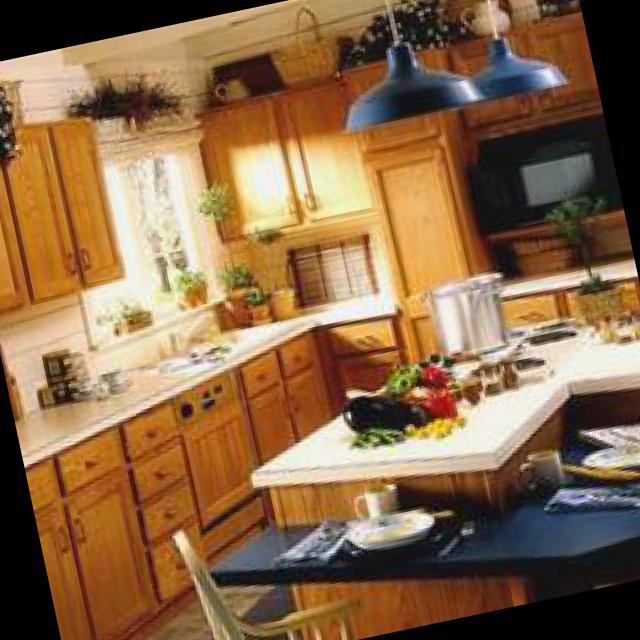2001: (86, 129, 229, 339)
basket crop: (270, 6, 343, 84), (540, 0, 581, 12)
cabinet door: (202, 77, 377, 238), (0, 118, 128, 297), (448, 9, 602, 135)
cabinets: (34, 329, 336, 640), (319, 107, 476, 403)
ceiling lamps: (351, 0, 486, 127), (472, 0, 570, 93)
chair -occluded-: (176, 529, 365, 640)
coffee maker: (40, 345, 98, 402)
counter bottom: (255, 311, 640, 485), (18, 292, 397, 461), (211, 497, 640, 575), (505, 244, 637, 291)
cup and saucer: (108, 364, 135, 392)
fork: (438, 515, 475, 556)
microwave oven: (482, 114, 621, 218)
mug: (518, 446, 566, 486), (357, 480, 400, 514)
napkin ring: (278, 517, 354, 556), (549, 477, 640, 507)
pitcher: (473, 0, 513, 29), (217, 76, 252, 95)
plant -x: (548, 190, 626, 317), (201, 175, 261, 320), (347, 0, 473, 64), (70, 71, 193, 124), (249, 223, 302, 316), (172, 263, 207, 308), (0, 83, 20, 160), (115, 297, 154, 330), (250, 285, 275, 318), (221, 263, 259, 282)
plate food: (347, 506, 432, 547), (584, 436, 640, 474)
pot hanger: (436, 269, 512, 347)
sink basin: (143, 321, 290, 370), (158, 338, 232, 370)
sink occluded: (171, 309, 218, 349)
stove burner: (447, 313, 599, 376)
trays occluded: (581, 414, 640, 443)
vegetables: (346, 359, 479, 446)
